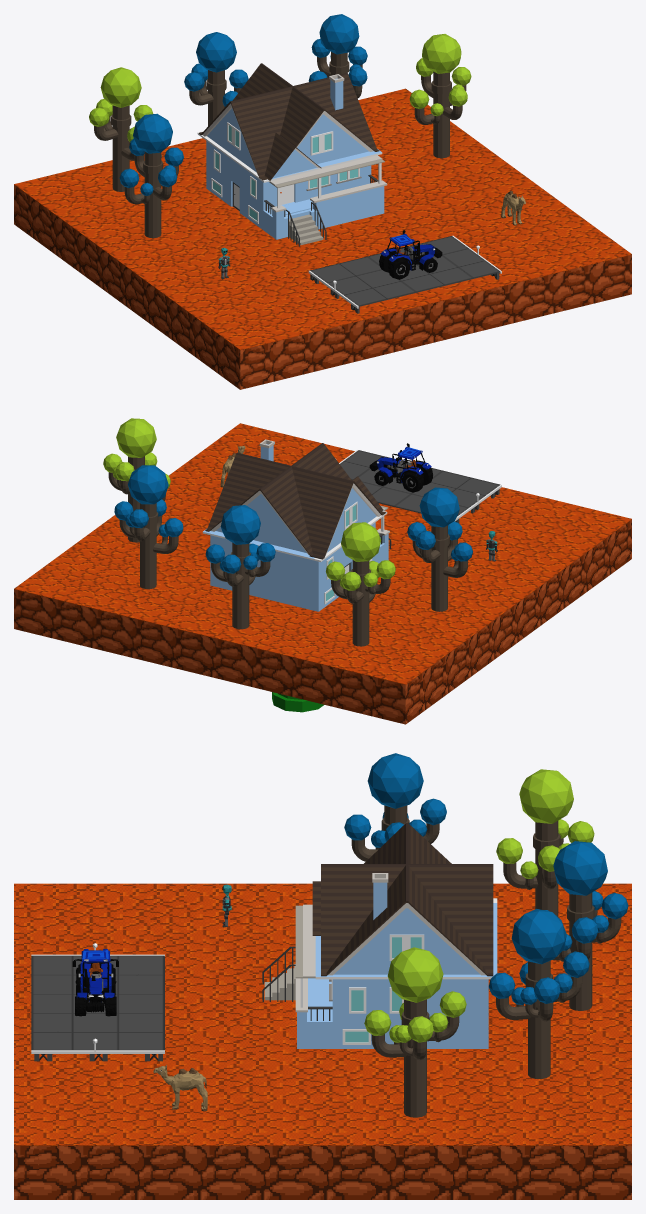
3 renders of one model, top to bottom at view 1: azimuth 30°, elevation 25°; view 2: azimuth 150°, elevation 25°; view 3: azimuth 270°, elevation 25°, orthographic. The views are drawn at different scales.
Visible parts, largest first — view 1: Cube.001, Cube.1594, VEHICLES_TRACTOR, ANIMAL_CAMELLO; view 2: Cube.001, Cube.1594, VEHICLES_TRACTOR, UNDERGROUND_PIPES; view 3: Cube.001, Cube.1594, VEHICLES_TRACTOR, ANIMAL_CAMELLO.
Part boxes in pixels (<box>): Cube.001: <box>14,14,631,389</box>; Cube.1594: <box>197,63,387,246</box>; VEHICLES_TRACTOR: <box>379,230,442,279</box>; ANIMAL_CAMELLO: <box>501,191,525,225</box>; Cube.001: <box>14,418,631,724</box>; Cube.1594: <box>202,439,391,611</box>; VEHICLES_TRACTOR: <box>369,443,432,492</box>; UNDERGROUND_PIPES: <box>272,692,324,712</box>; Cube.001: <box>14,753,631,1199</box>; Cube.1594: <box>262,823,497,1048</box>; VEHICLES_TRACTOR: <box>72,949,118,1016</box>; ANIMAL_CAMELLO: <box>153,1064,207,1111</box>.
Size of the model in its own units: 4000 by 2247 by 4000.
Materials: 35 (4 with a texture image).
